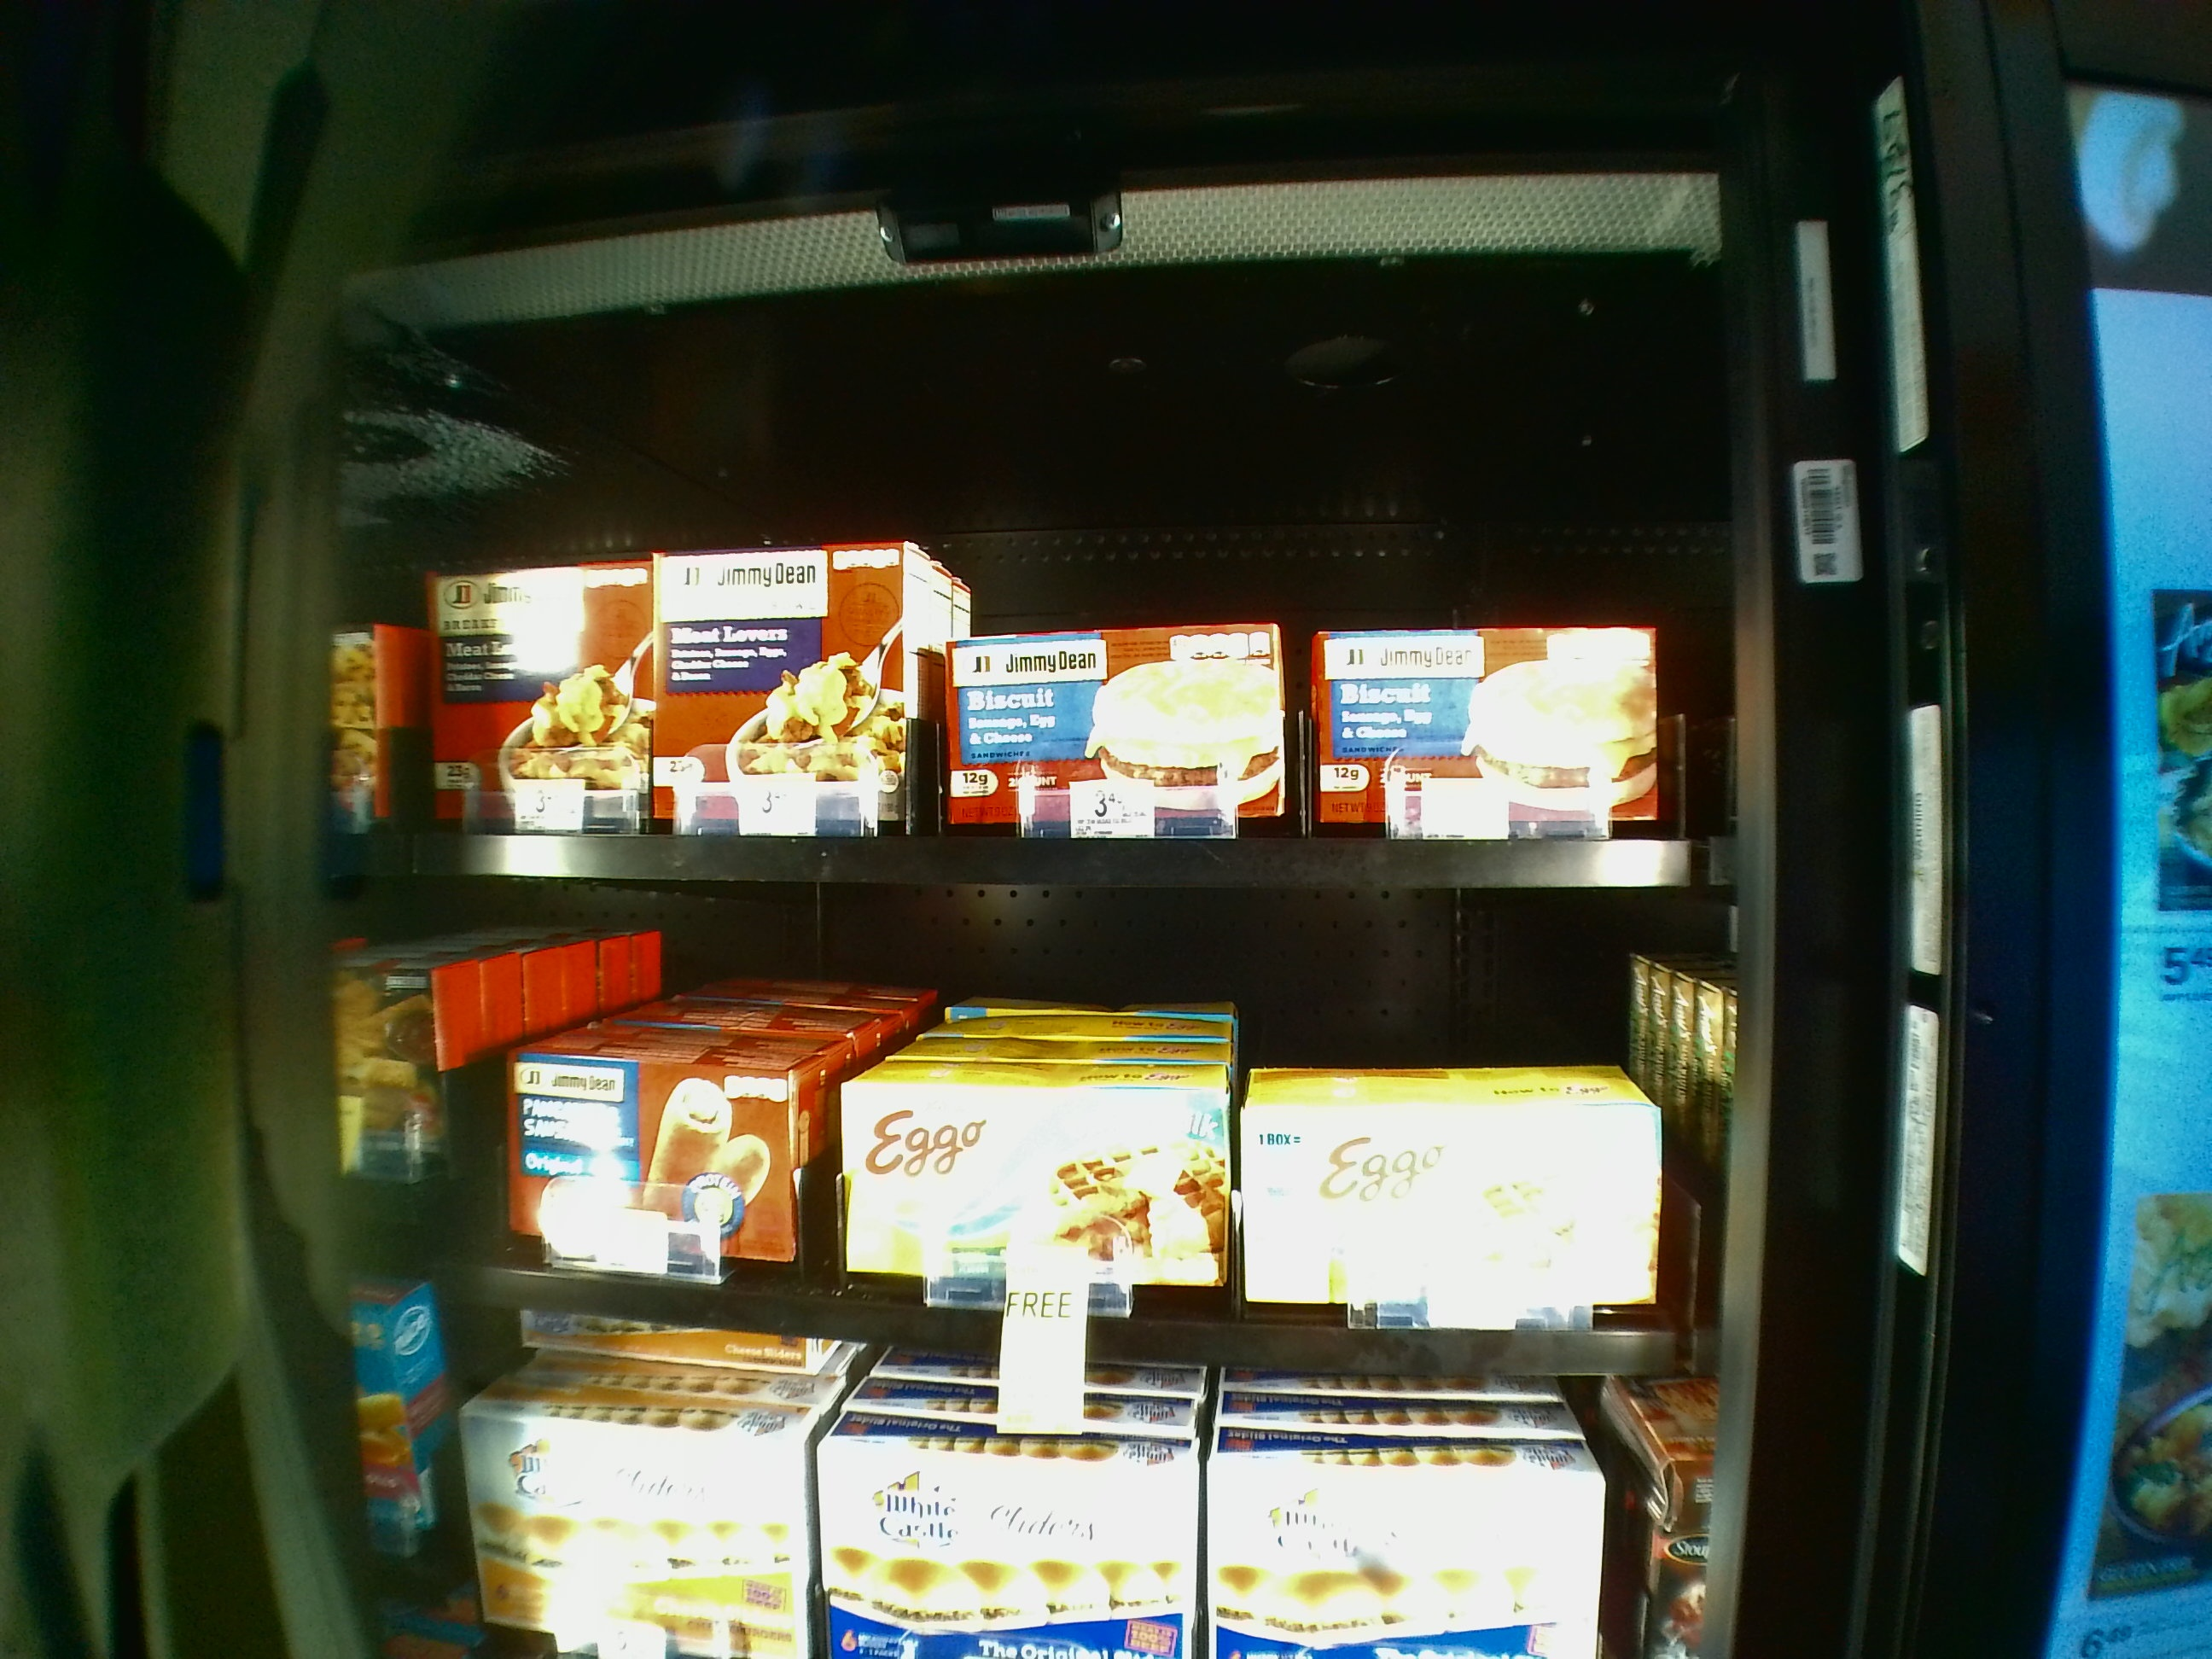shelf: (359, 340, 1724, 889), (355, 904, 1719, 1399)
